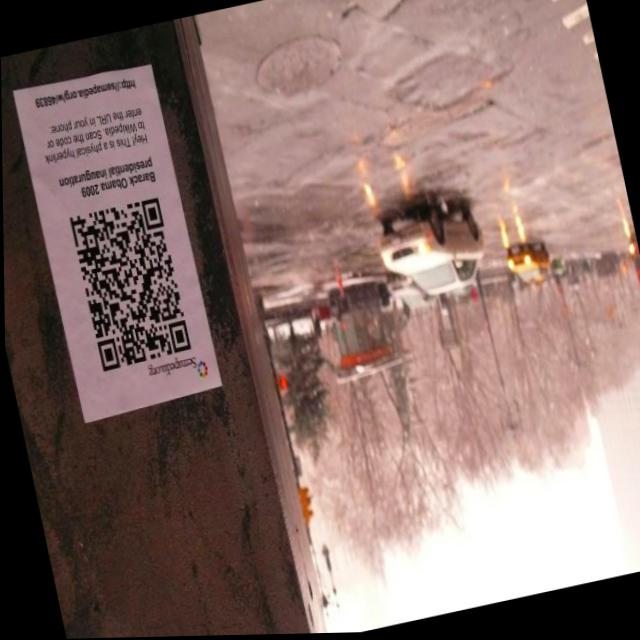qrcode: (68, 197, 191, 373)
